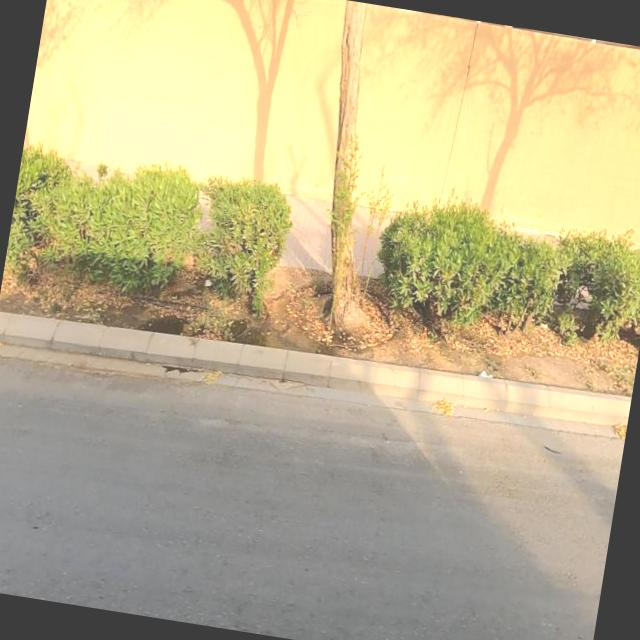debris: (456, 343, 516, 407)
